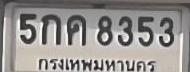3: (117, 14, 132, 44), (158, 16, 173, 46)
5: (19, 12, 36, 42), (137, 15, 153, 46)
8: (96, 15, 112, 45)
A01: (40, 12, 60, 44)
A04: (66, 14, 86, 44)
BKK: (36, 55, 157, 72)
